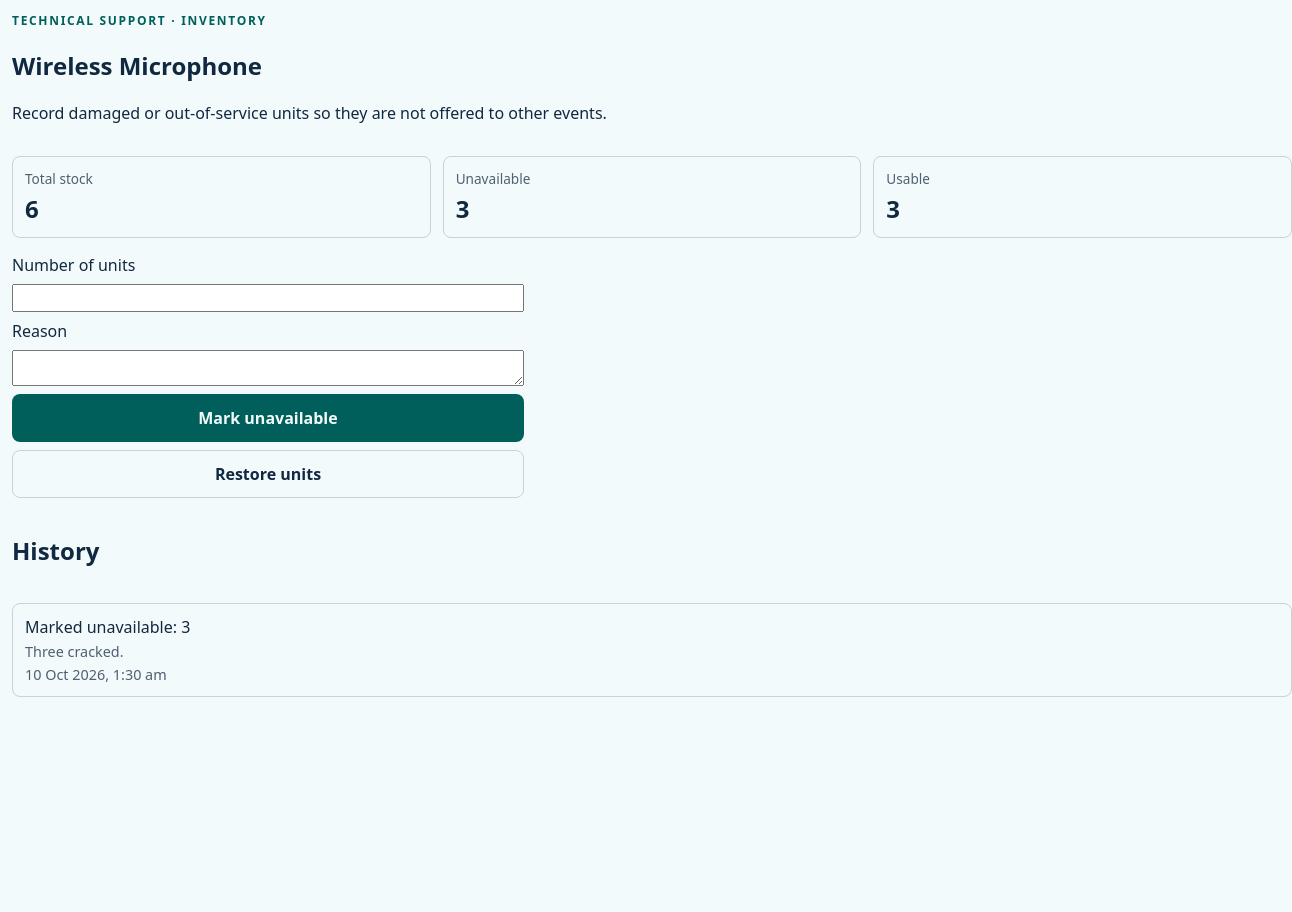
[TC-SPL-96-08] restores units through the restore route and reports the new usable stock
Expected: the text with test id "usable-stock" reads "3", [886,192,900,225]
Type "2" into the number field labelled "Number of units" at {"x": 268, "y": 298}, box [12,284,524,312]
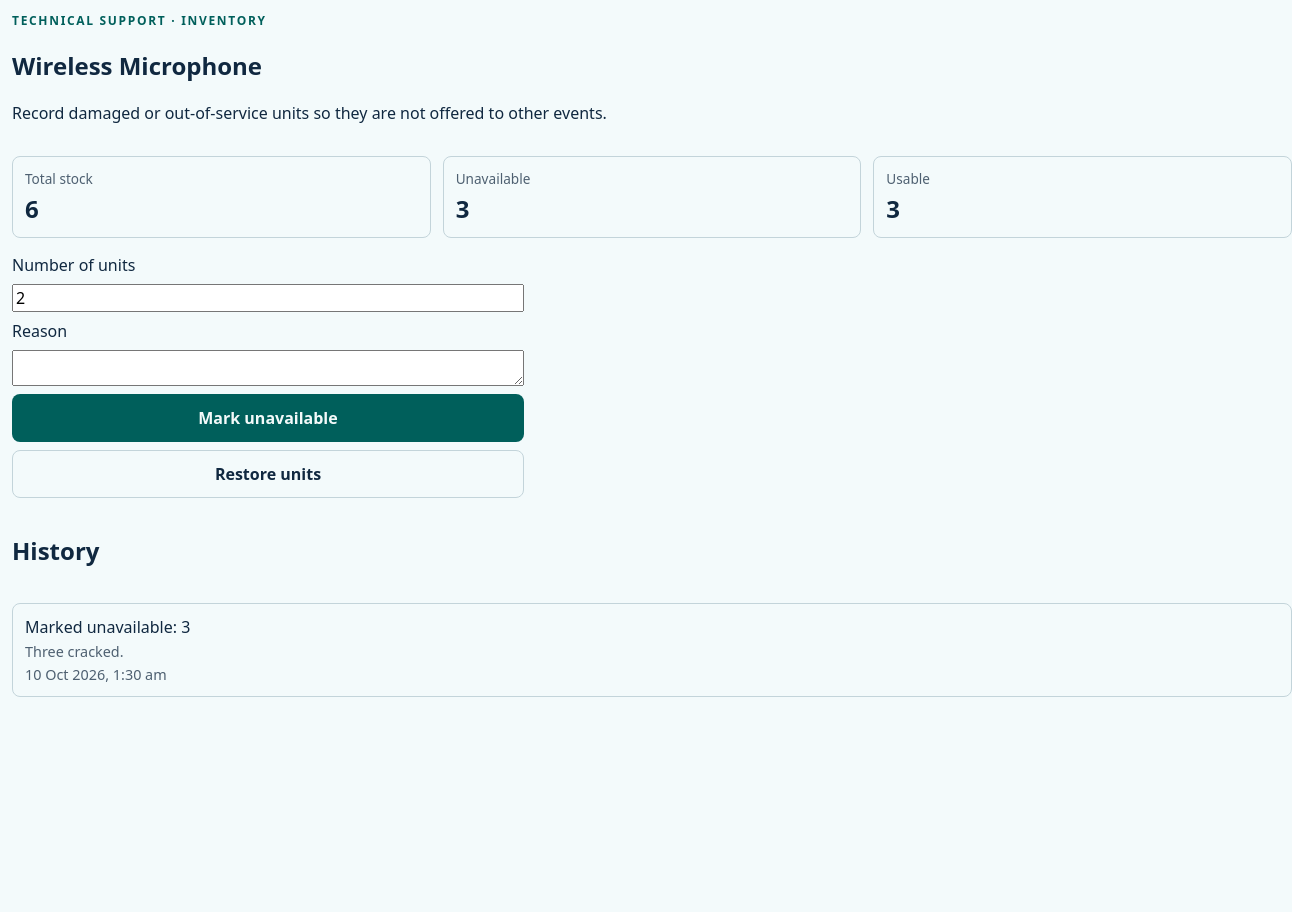
Type "Two replaced." into the text box labelled "Reason" at {"x": 268, "y": 368}, box [12,350,524,386]
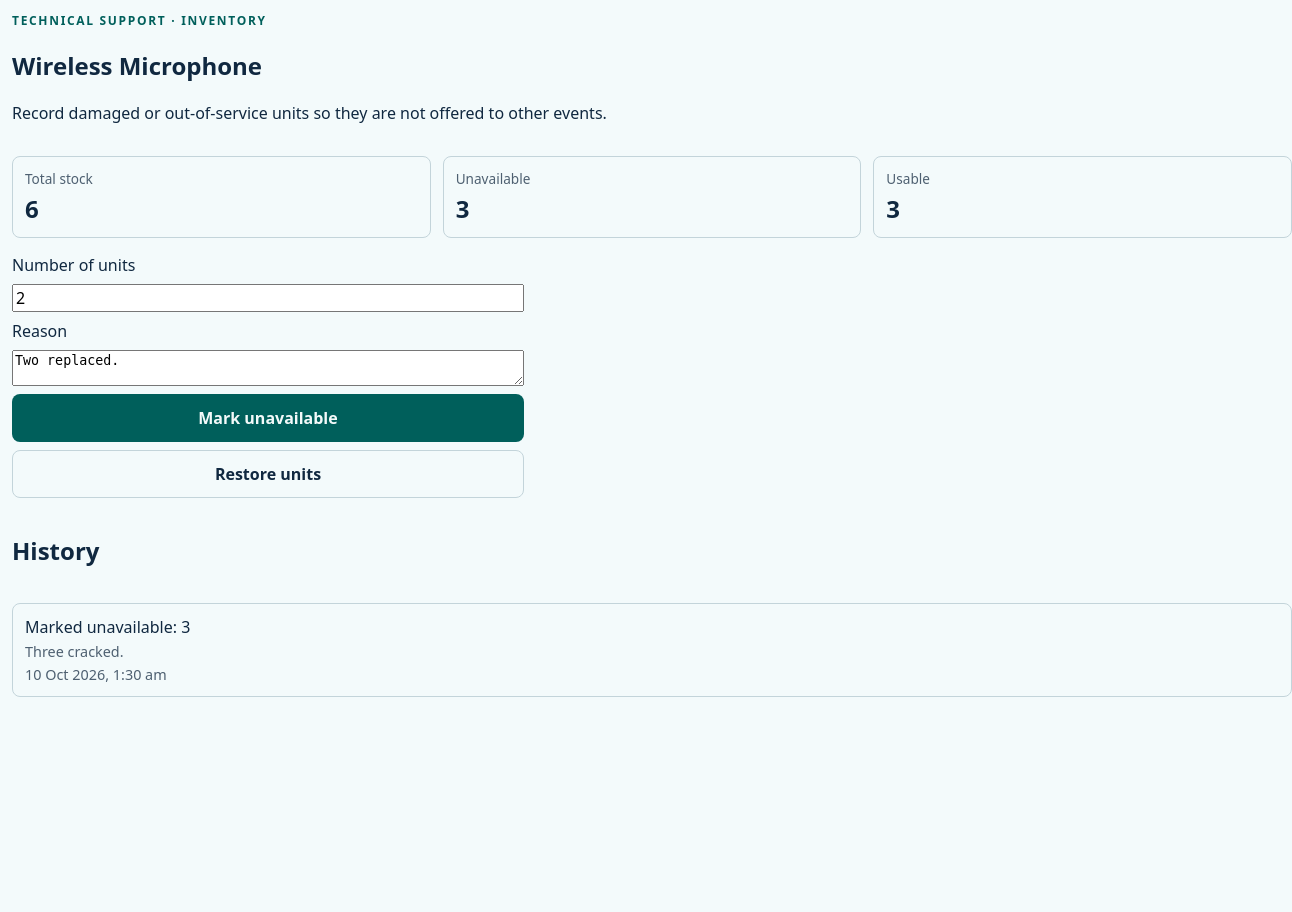
Click the button "Restore units" at {"x": 268, "y": 474}, box [12,450,524,498]
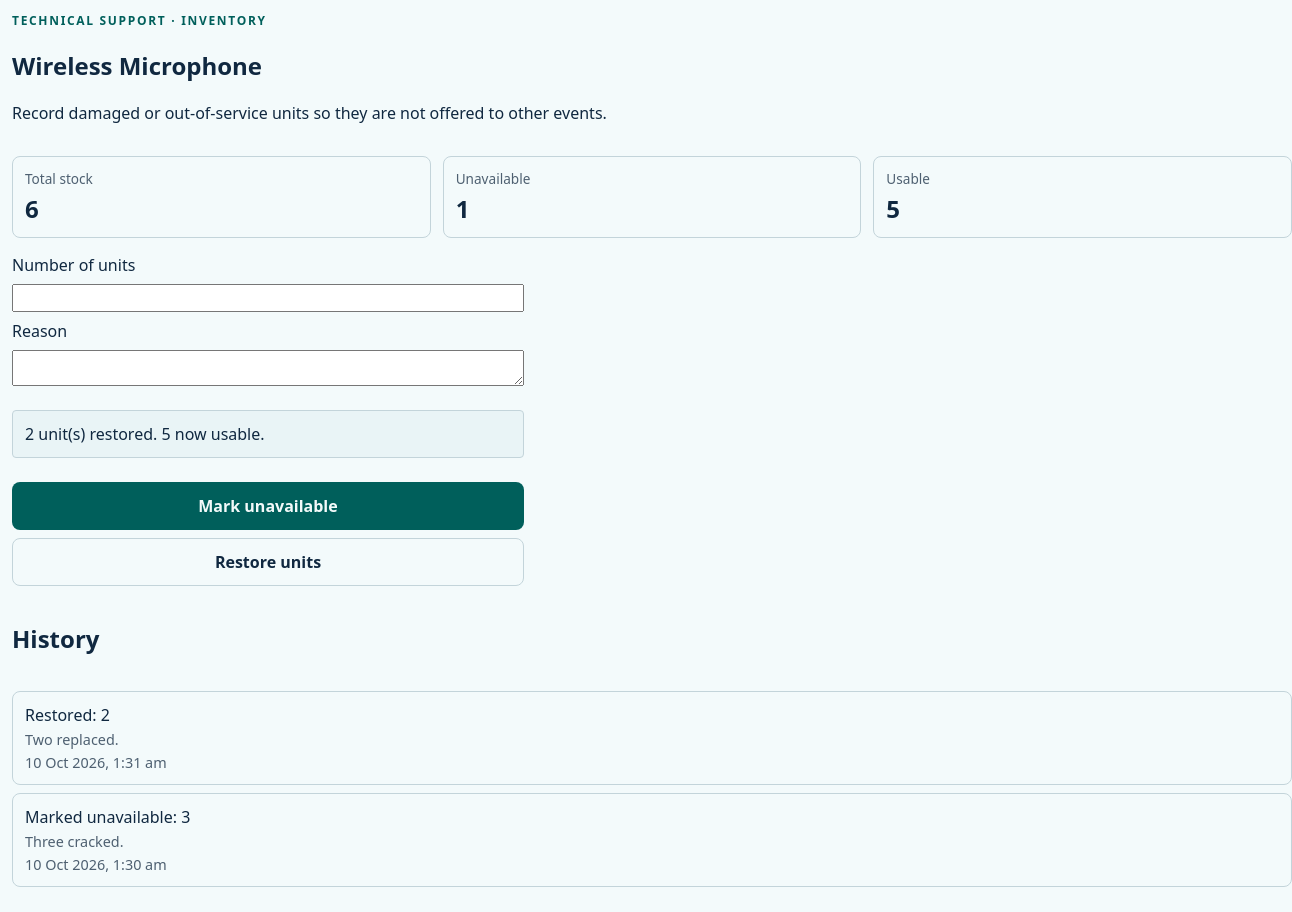
Now the text with test id "usable-stock" reads "5", box [886,192,900,225]
Now the message shows "now usable", box [25,423,265,445]
